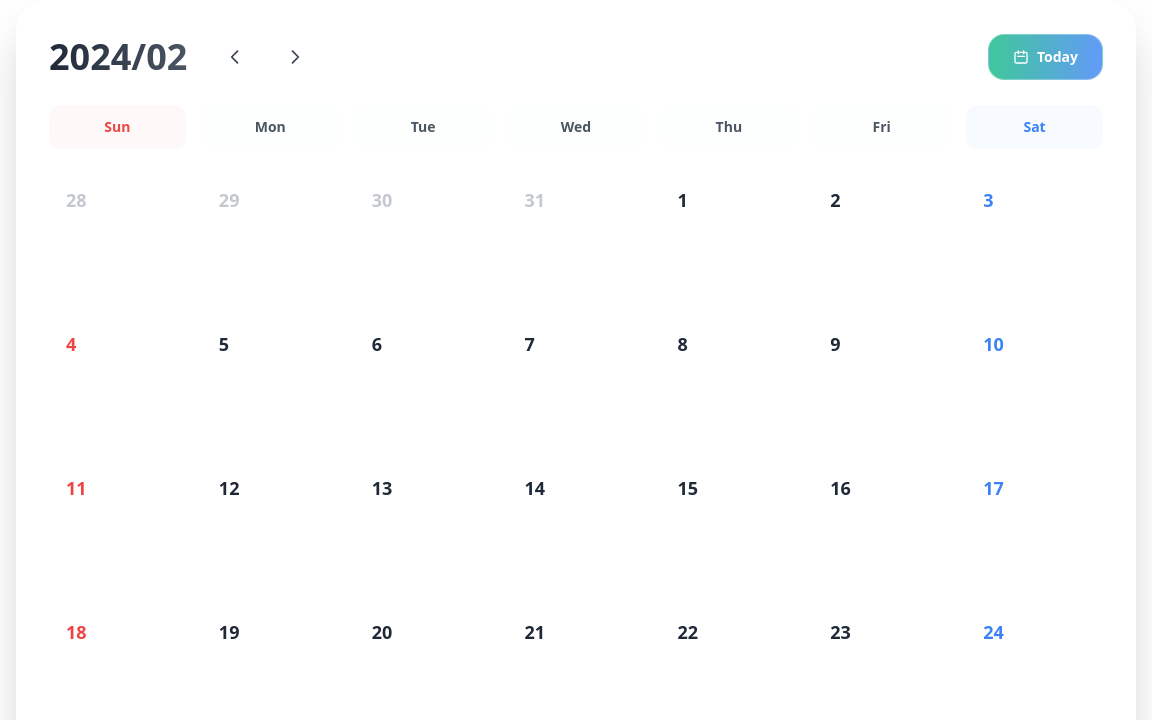
Test: Calendar.vue › ナビゲーション機能 › Todayボタンが動作する
Click the button "Today": click(1045, 57) [988,34,1103,80]
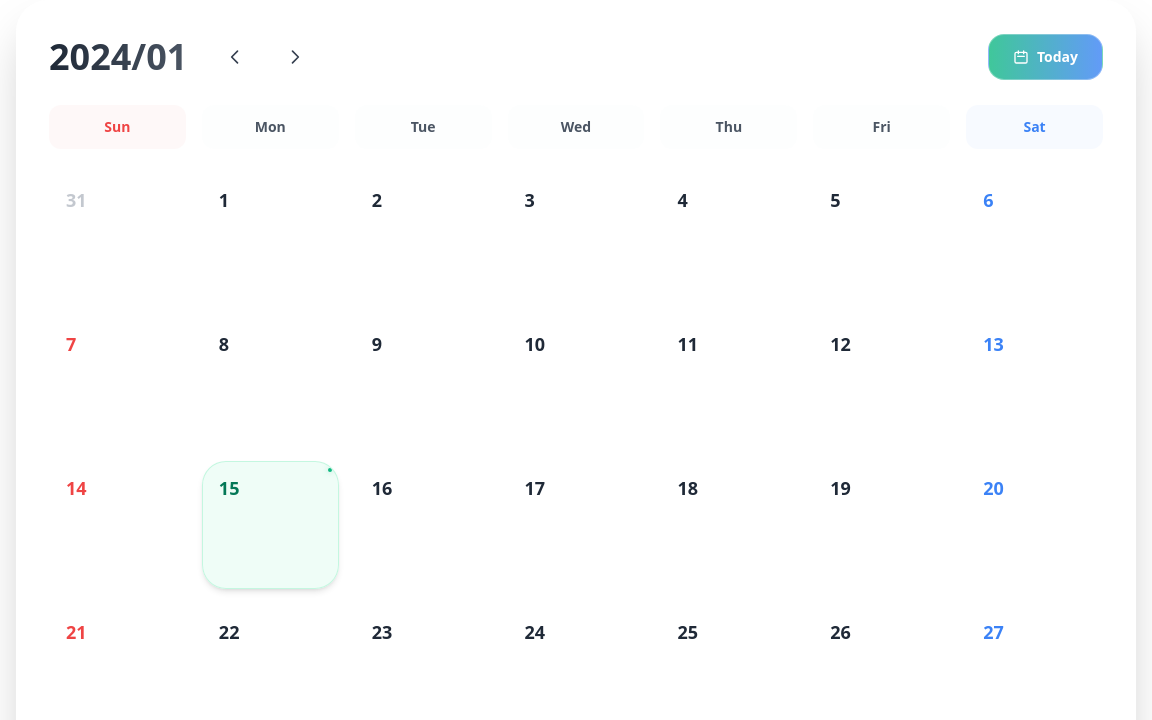
Check: the text "2024/01" is shown, box [49,37,187,77]
